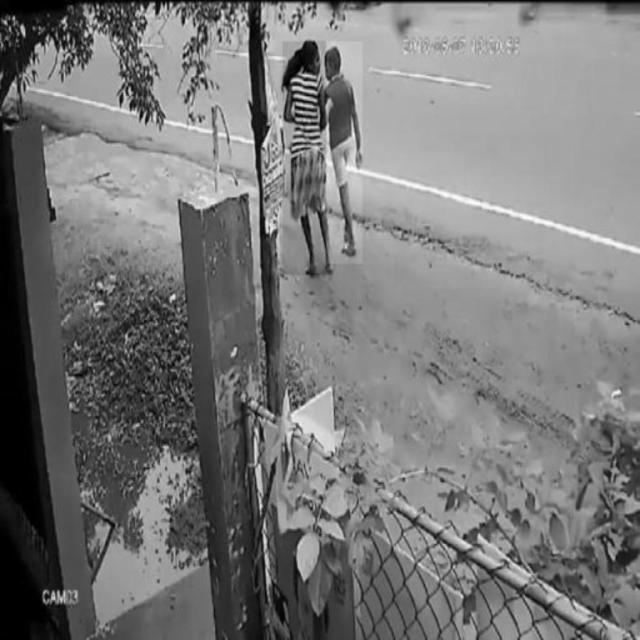person: (283, 42, 327, 275), (326, 41, 362, 263)
